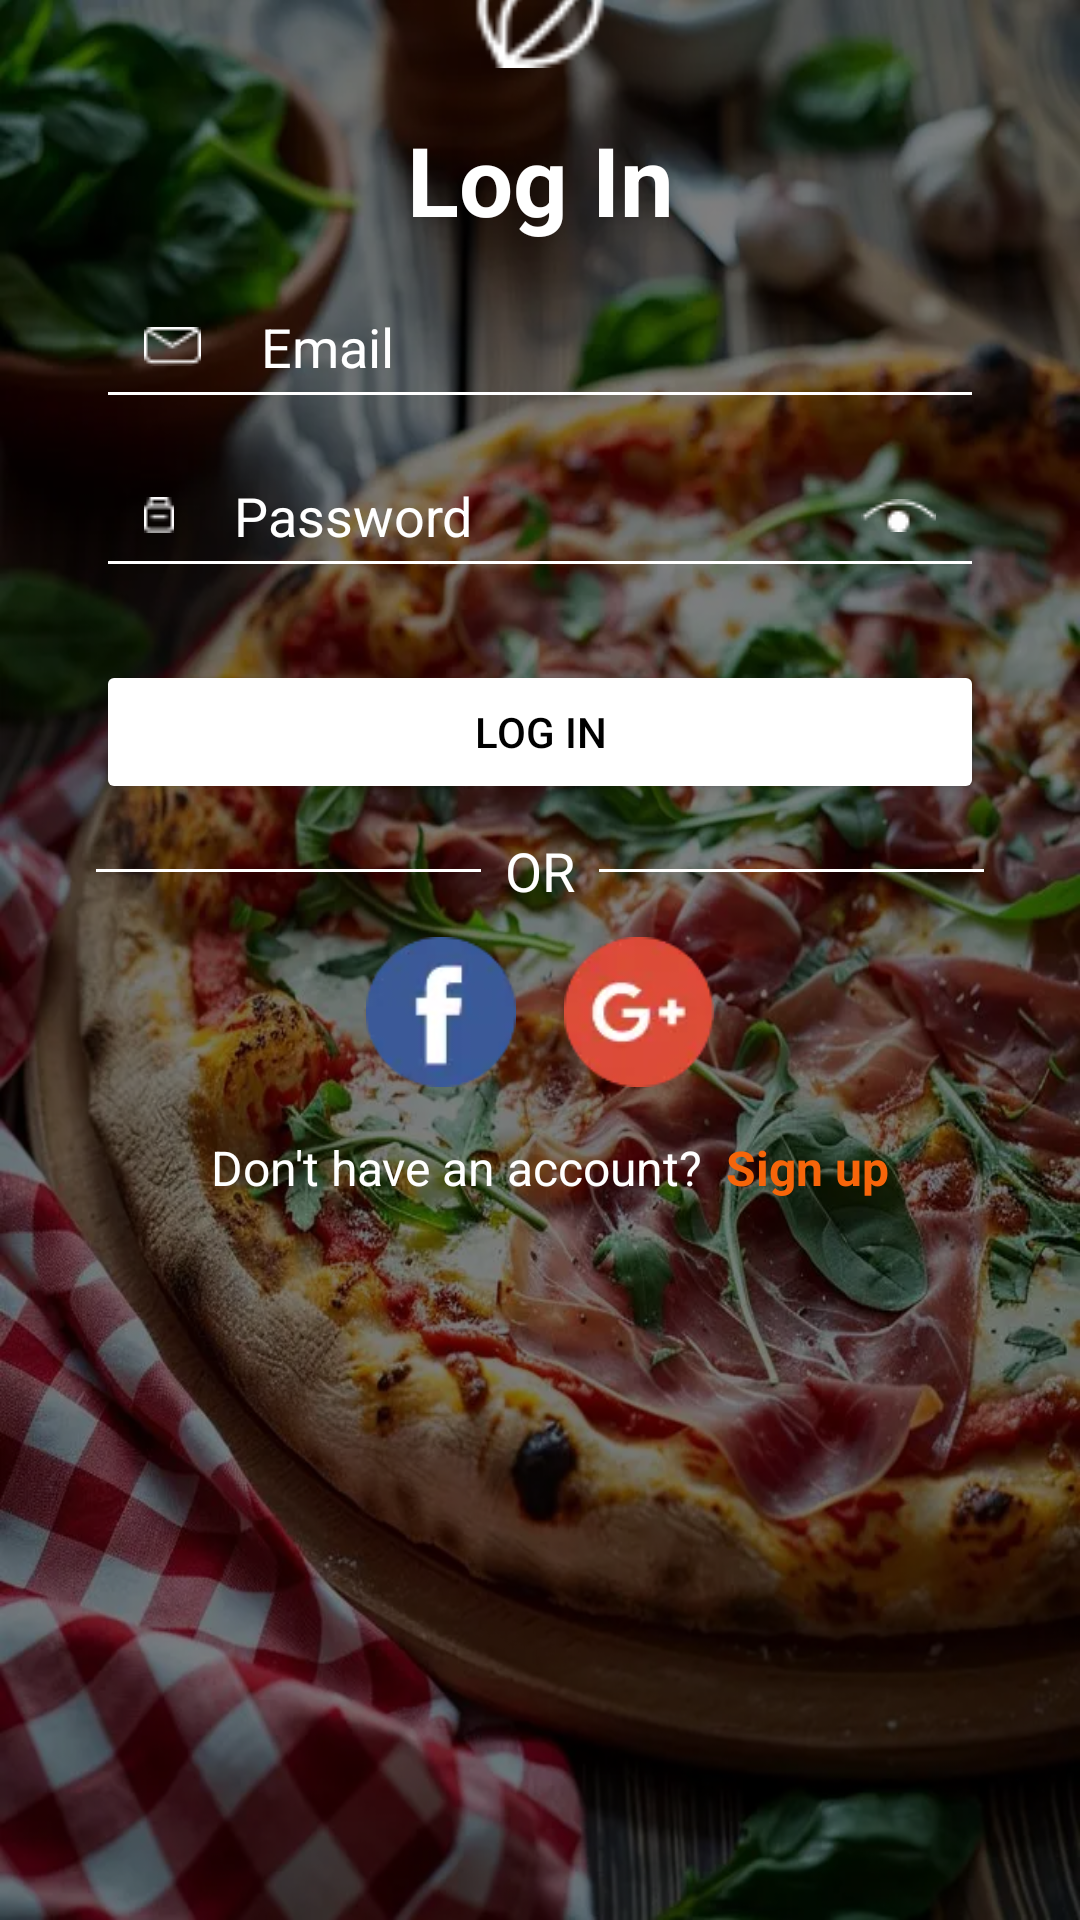

Named icons in this screenshot (1080px x 1920px) and their centers, [x,y]:
hidden: [898,515]
